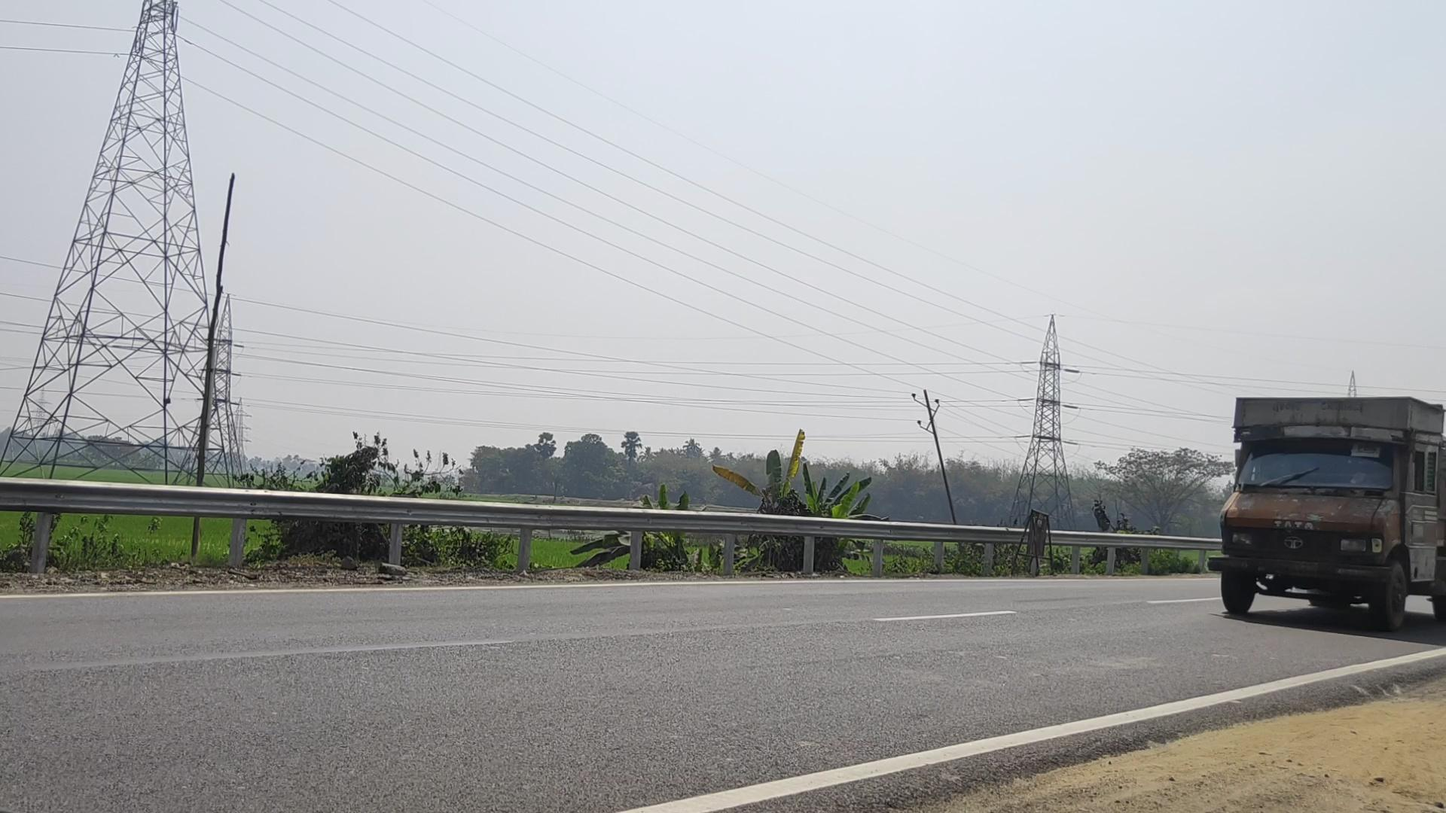truck: (1210, 397, 1446, 632)
